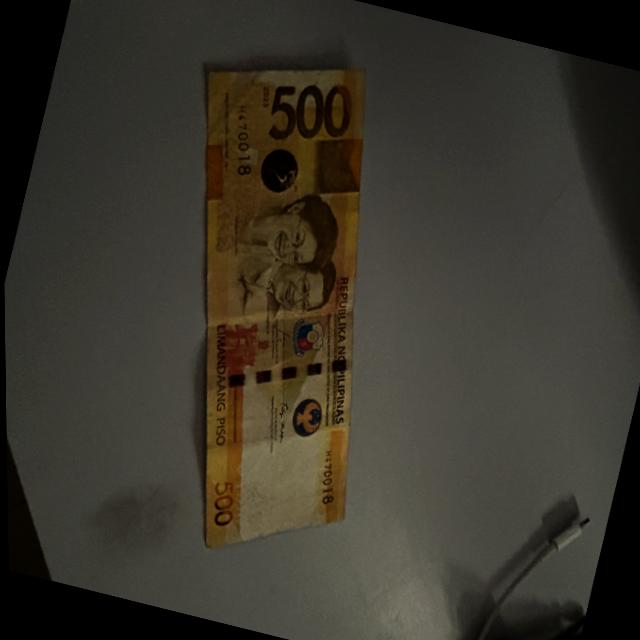concealed_value: (301, 130, 358, 201)
optically_variable_device: (254, 141, 302, 202)
see_through_mark: (220, 449, 258, 536)
